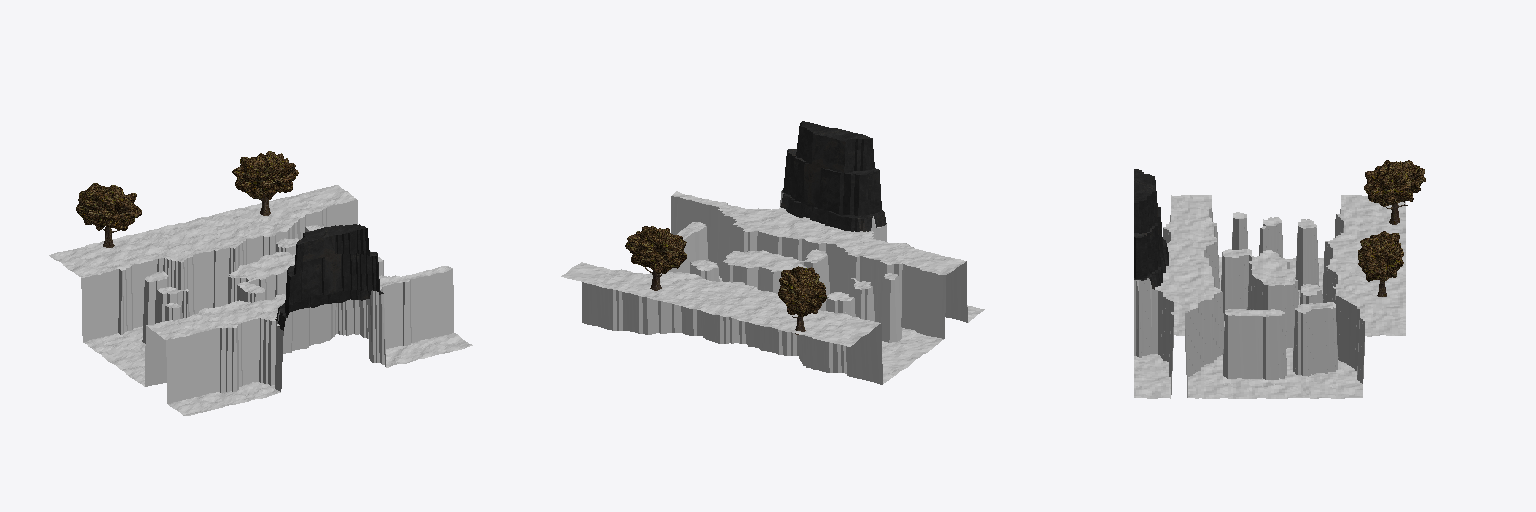
3 views of the same model, side by side, from view 1: azimuth 30°, elevation 25°; view 2: azimuth 150°, elevation 25°; view 3: azimuth 270°, elevation 25° (orthographic).
Visible parts, largest first — view 1: Terrain_Chunk_2, Terrain_Chunk_2_Sides, Tree_Top.004, Tree_Top.005; view 2: Terrain_Chunk_2, Terrain_Chunk_2_Sides, Tree_Top.005, Tree_Top.004; view 3: Terrain_Chunk_2, Terrain_Chunk_2_Sides, Tree_Top.004, Tree_Top.005.
Part boxes in pixels (bbox=[...]): Terrain_Chunk_2: bbox=[77, 191, 444, 409]; Terrain_Chunk_2_Sides: bbox=[49, 185, 472, 415]; Tree_Top.004: bbox=[76, 183, 141, 230]; Tree_Top.005: bbox=[232, 151, 298, 199]; Terrain_Chunk_2: bbox=[587, 121, 938, 377]; Terrain_Chunk_2_Sides: bbox=[561, 191, 984, 384]; Tree_Top.005: bbox=[625, 226, 686, 273]; Tree_Top.004: bbox=[778, 266, 826, 316]; Terrain_Chunk_2: bbox=[1134, 169, 1405, 386]; Terrain_Chunk_2_Sides: bbox=[1134, 195, 1405, 398]; Tree_Top.004: bbox=[1364, 160, 1425, 206]; Tree_Top.005: bbox=[1358, 231, 1403, 281].
Size of the model in its own units: 48.93 by 23.87 by 43.03.
5 materials, 3 textured.